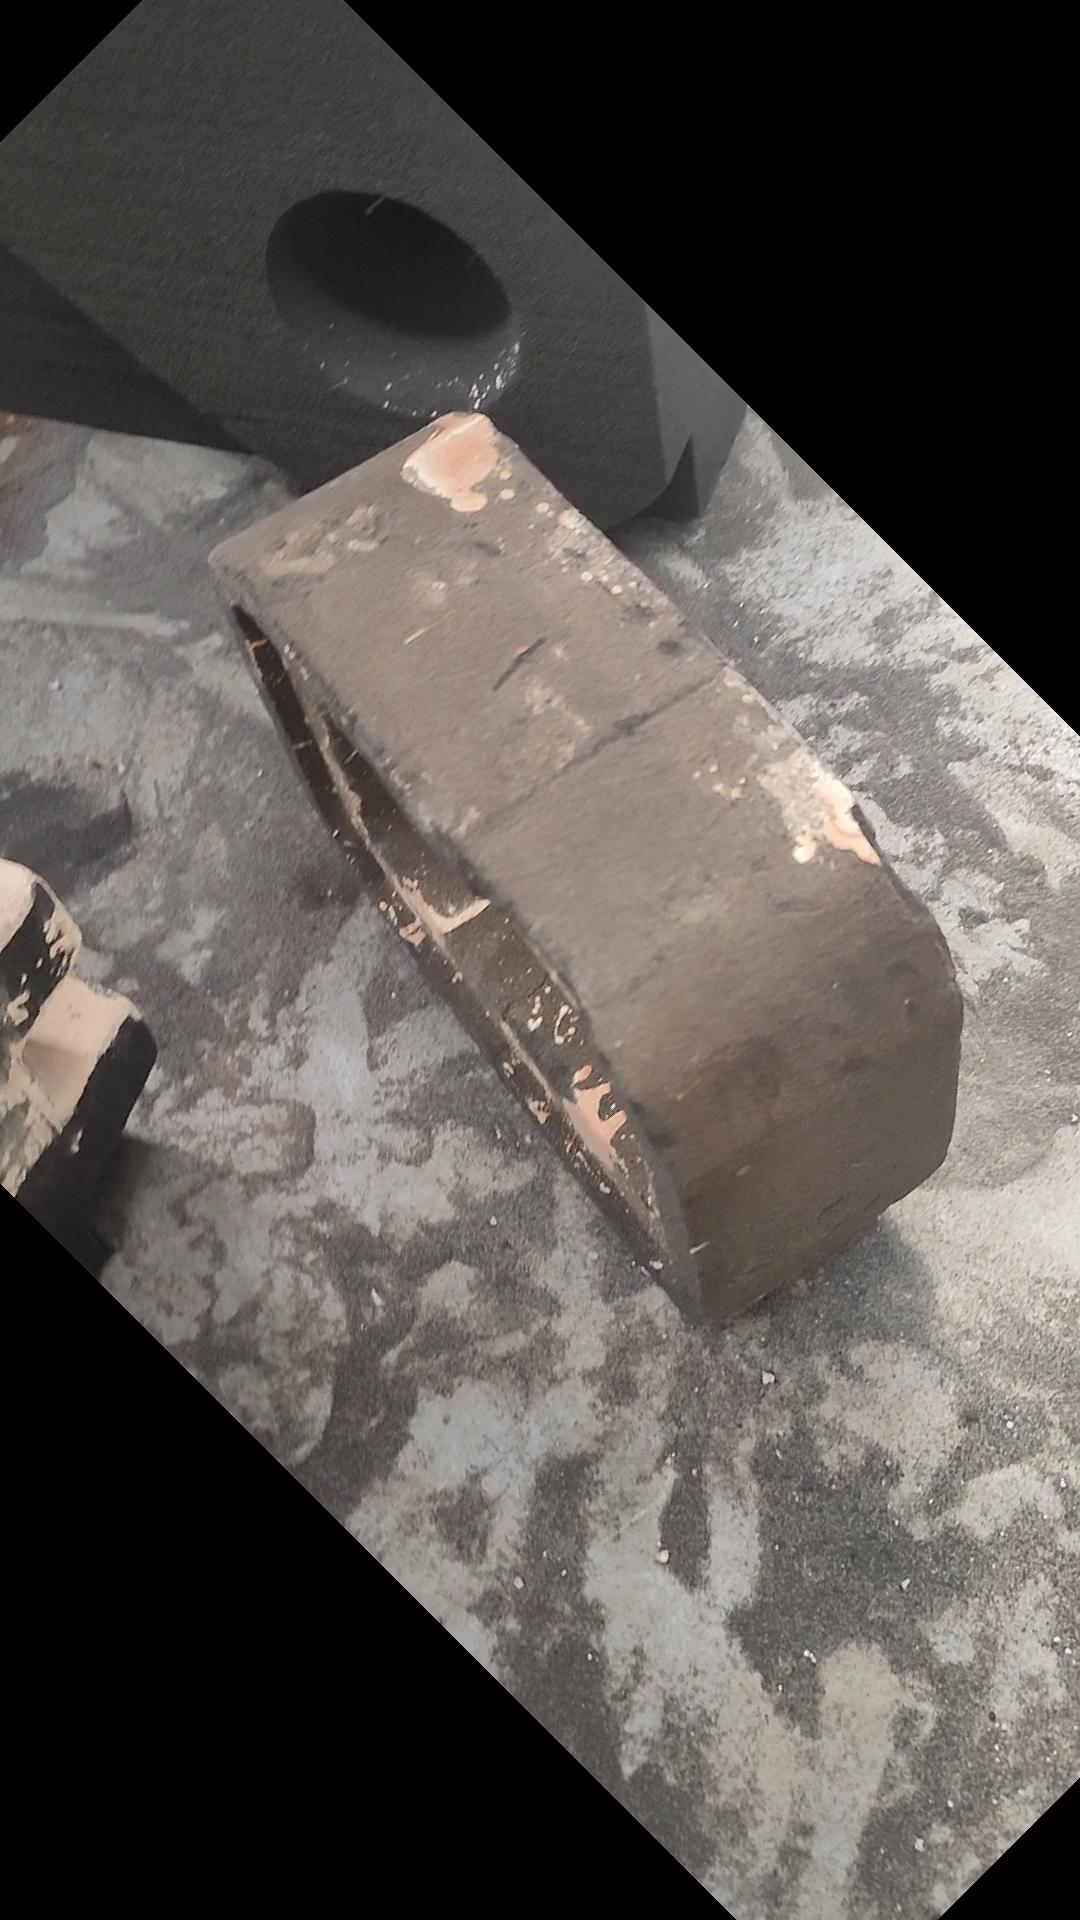pouring hole: (262, 194, 526, 421)
